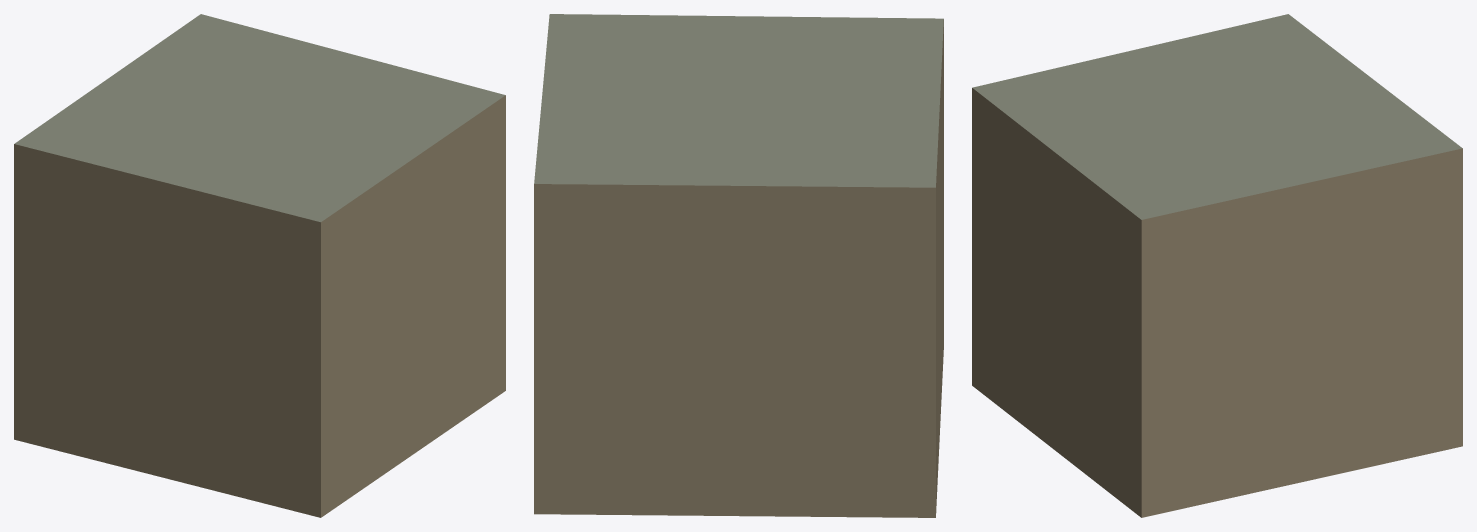
File: nyc-1091076-0.glb
3 renders of one model, left to right at view 1: azimuth 30°, elevation 25°; view 2: azimuth 150°, elevation 25°; view 3: azimuth 270°, elevation 25°, orthographic. The views are drawn at different scales.
Visible parts, largest first — view 1: nyc-1091076-0; view 2: nyc-1091076-0; view 3: nyc-1091076-0.
Boxes of the visible parts, <box> form: nyc-1091076-0: <box>14,14,505,517</box>; nyc-1091076-0: <box>534,14,943,517</box>; nyc-1091076-0: <box>972,14,1462,517</box>.
Size of the model in its own units: 5.87 by 3.96 by 5.91.
